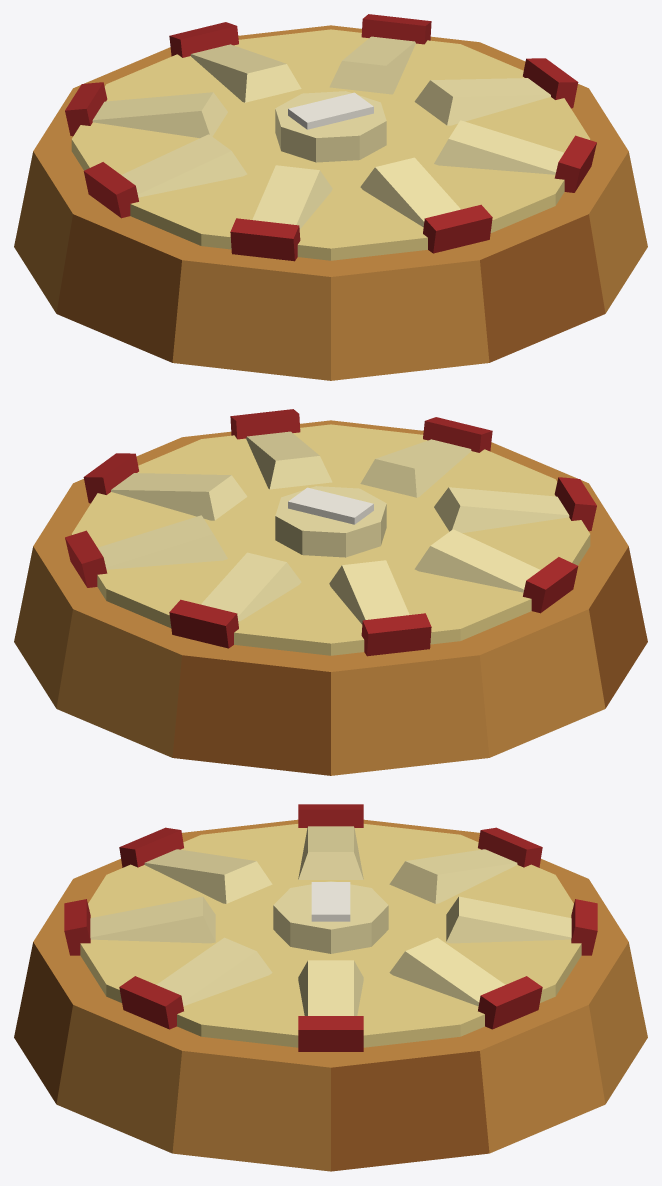
The model's file is appleCake.glb.
3 views of the same model, one above another, from view 1: azimuth 30°, elevation 25°; view 2: azimuth 150°, elevation 25°; view 3: azimuth 270°, elevation 25° (orthographic).
Parts seen in each view (by area): view 1: appleCake; view 2: appleCake; view 3: appleCake.
Part boxes in pixels (x1,y1,x2,y2): appleCake: (14,14,647,380); appleCake: (14,409,647,775); appleCake: (14,804,647,1171).
Size of the model in its own units: 0.33 by 0.08 by 0.33.
1 material, 1 textured.
